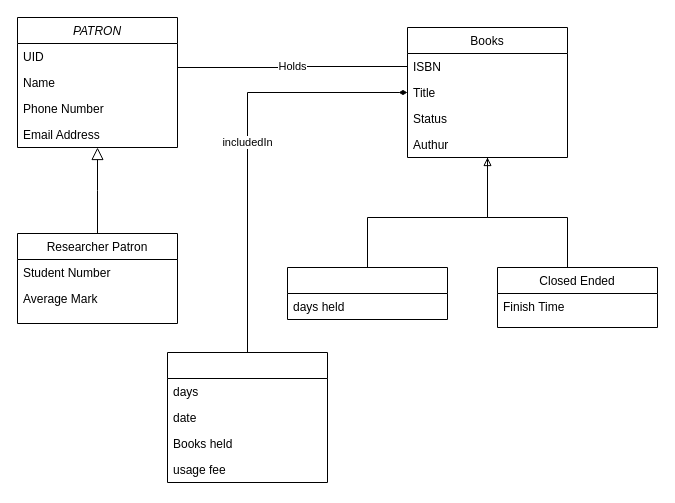
Image size: 675x503. Some labels were removed from this diagram. The shapes that lost their labels are listed below. From the top down, each one's box as (x1, y1, x2, y2) in pixels, then its label:
(286, 266, 448, 320): Open Ended
(166, 352, 328, 482): Daily Sheet
